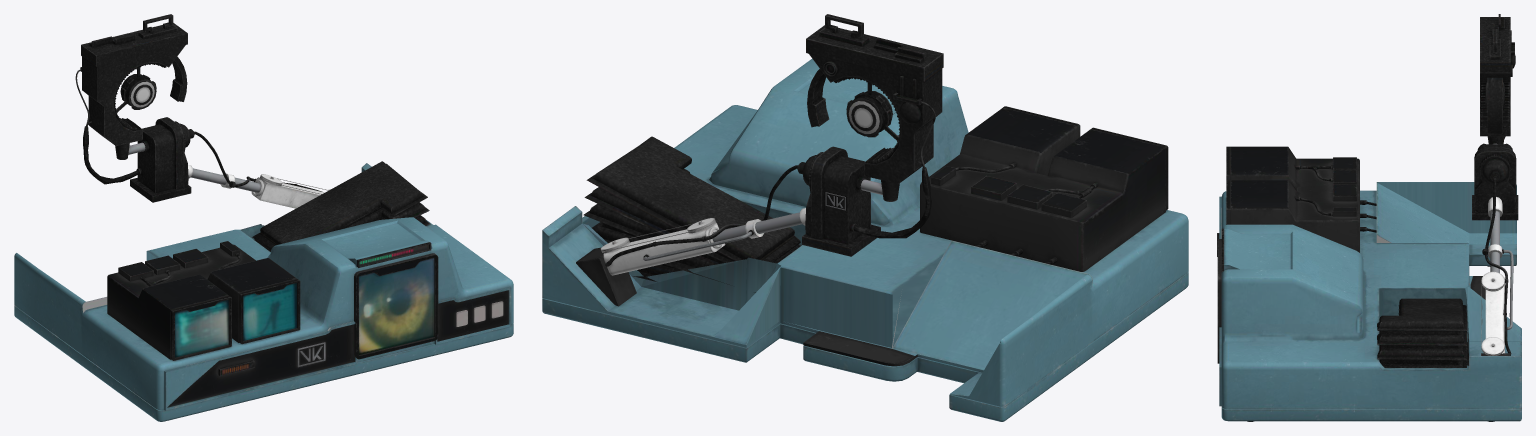
The model's file is VK_Device.glb.
3 views of the same model, side by side, from view 1: azimuth 30°, elevation 25°; view 2: azimuth 150°, elevation 25°; view 3: azimuth 270°, elevation 25° (orthographic). The views are drawn at different scales.
Visible parts, largest first — view 1: VK_Chassis, VK_Camera_Body, VK_Bellows_Lid, VK_Head_Motor, VK_Mast_Outer, VK_Lens, VK_Bellows_Layer_03, VK_Mast_Inner, VK_Cable_Head_Lower; view 2: VK_Chassis, VK_Camera_Body, VK_Bellows_Lid, VK_Head_Motor, VK_Mast_Outer, VK_Lens, VK_Bellows_Layer_03, VK_Bellows_Layer_02, VK_Mast_Inner, VK_Cable_Head_Lower, VK_Cable_Mast, VK_Bellows_Layer_01; view 3: VK_Chassis, VK_Camera_Body, VK_Head_Motor, VK_Bellows_Lid, VK_Mast_Outer, VK_Bellows_Layer_02, VK_Bellows_Layer_03, VK_Bellows_Skirt, VK_Cable_Mast, VK_Mast_Inner, VK_Bellows_Layer_01, VK_Cable_Rail.
Part boxes in pixels (x1=…): VK_Chassis: x1=14, y1=163, x2=513, y2=421; VK_Camera_Body: x1=80, y1=14, x2=187, y2=159; VK_Bellows_Lid: x1=252, y1=161, x2=427, y2=249; VK_Head_Motor: x1=128, y1=117, x2=194, y2=202; VK_Mast_Outer: x1=251, y1=174, x2=330, y2=208; VK_Lens: x1=120, y1=74, x2=156, y2=109; VK_Bellows_Layer_03: x1=254, y1=202, x2=429, y2=251; VK_Mast_Inner: x1=191, y1=168, x2=260, y2=192; VK_Cable_Head_Lower: x1=83, y1=126, x2=140, y2=184; VK_Chassis: x1=542, y1=58, x2=1188, y2=421; VK_Camera_Body: x1=806, y1=14, x2=943, y2=201; VK_Bellows_Lid: x1=586, y1=136, x2=800, y2=262; VK_Head_Motor: x1=797, y1=146, x2=882, y2=256; VK_Mast_Outer: x1=600, y1=218, x2=725, y2=275; VK_Lens: x1=846, y1=91, x2=892, y2=137; VK_Bellows_Layer_03: x1=584, y1=169, x2=800, y2=263; VK_Bellows_Layer_02: x1=583, y1=204, x2=723, y2=265; VK_Mast_Inner: x1=712, y1=212, x2=802, y2=242; VK_Cable_Head_Lower: x1=851, y1=167, x2=931, y2=238; VK_Cable_Mast: x1=605, y1=165, x2=797, y2=266; VK_Bellows_Layer_01: x1=592, y1=222, x2=755, y2=292; VK_Chassis: x1=1217, y1=146, x2=1521, y2=421; VK_Camera_Body: x1=1480, y1=14, x2=1515, y2=144; VK_Head_Motor: x1=1472, y1=143, x2=1518, y2=220; VK_Bellows_Lid: x1=1377, y1=298, x2=1467, y2=331; VK_Mast_Outer: x1=1481, y1=271, x2=1508, y2=355; VK_Bellows_Layer_02: x1=1377, y1=313, x2=1467, y2=360; VK_Bellows_Layer_03: x1=1377, y1=309, x2=1467, y2=345; VK_Bellows_Skirt: x1=1385, y1=331, x2=1458, y2=364; VK_Cable_Mast: x1=1484, y1=177, x2=1511, y2=355; VK_Mast_Inner: x1=1482, y1=211, x2=1502, y2=273; VK_Bellows_Layer_01: x1=1379, y1=332, x2=1468, y2=367; VK_Cable_Rail: x1=1502, y1=249, x2=1513, y2=329.
Size of the model in its own units: 0.7201 by 0.5431 by 0.5273.
Materials: 1 (1 with a texture image).
